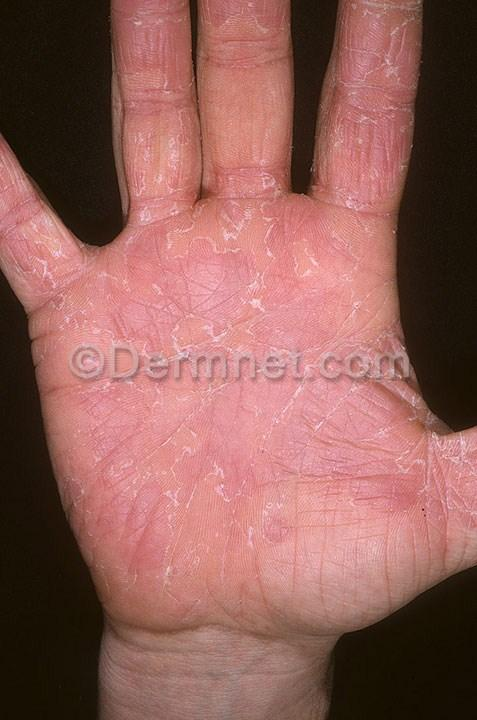Eczema: (116, 0, 297, 229), (218, 226, 419, 422), (52, 330, 202, 496), (333, 0, 437, 225), (213, 429, 423, 536), (0, 157, 89, 317), (116, 505, 253, 608), (421, 409, 477, 526)
